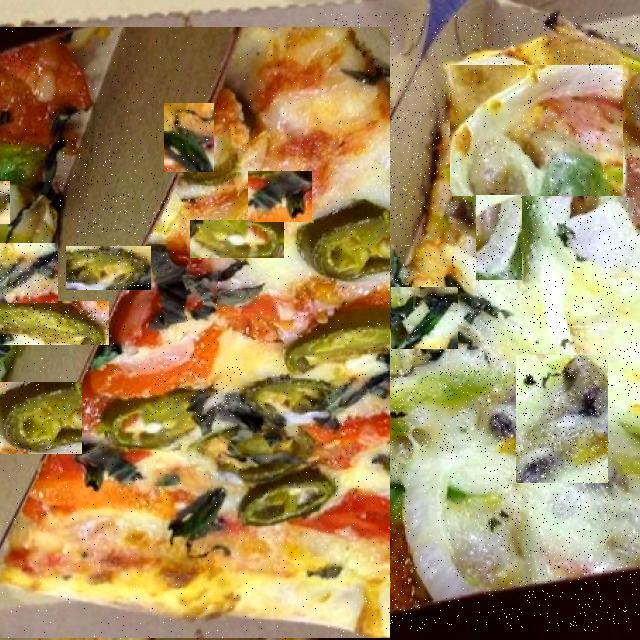Jalapenoes: (137, 483, 207, 573), (0, 384, 82, 456), (0, 302, 109, 345), (60, 137, 144, 186), (66, 248, 151, 292), (190, 221, 284, 258)
Mushrooms: (517, 356, 608, 483)
Onions: (451, 66, 623, 196), (410, 457, 484, 600), (78, 194, 170, 235), (478, 197, 522, 280)
Pizza: (0, 28, 390, 639), (311, 14, 639, 631)
Rucola: (151, 358, 244, 426), (392, 288, 458, 349), (0, 244, 58, 303), (164, 104, 214, 172), (248, 172, 312, 222), (0, 182, 10, 224)
